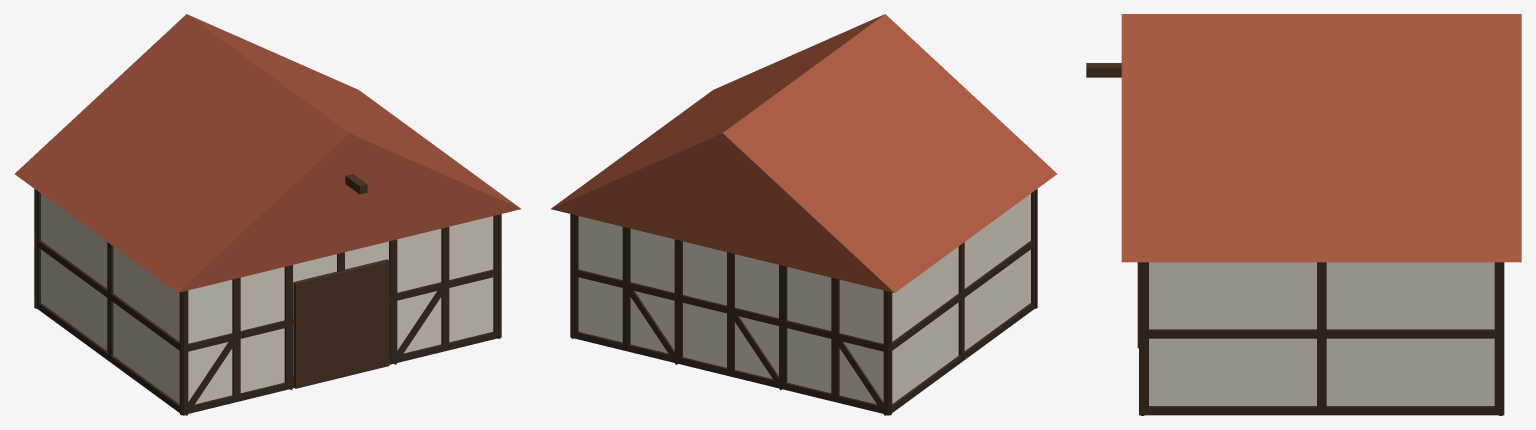
The model's file is granary.glb.
The picture shows the model from 3 angles, left to right: view 1: azimuth 30°, elevation 25°; view 2: azimuth 150°, elevation 25°; view 3: azimuth 270°, elevation 25°; orthographic projection. The views are drawn at different scales.
Parts seen in each view (by area): view 1: Granary; view 2: Granary; view 3: Granary.
Part boxes in pixels (box(x1,y1,x2,y2)): Granary: box(15, 14, 520, 415); Granary: box(551, 14, 1056, 415); Granary: box(1086, 14, 1521, 415).
Size of the model in its own units: 11 by 7.66 by 9.8.
